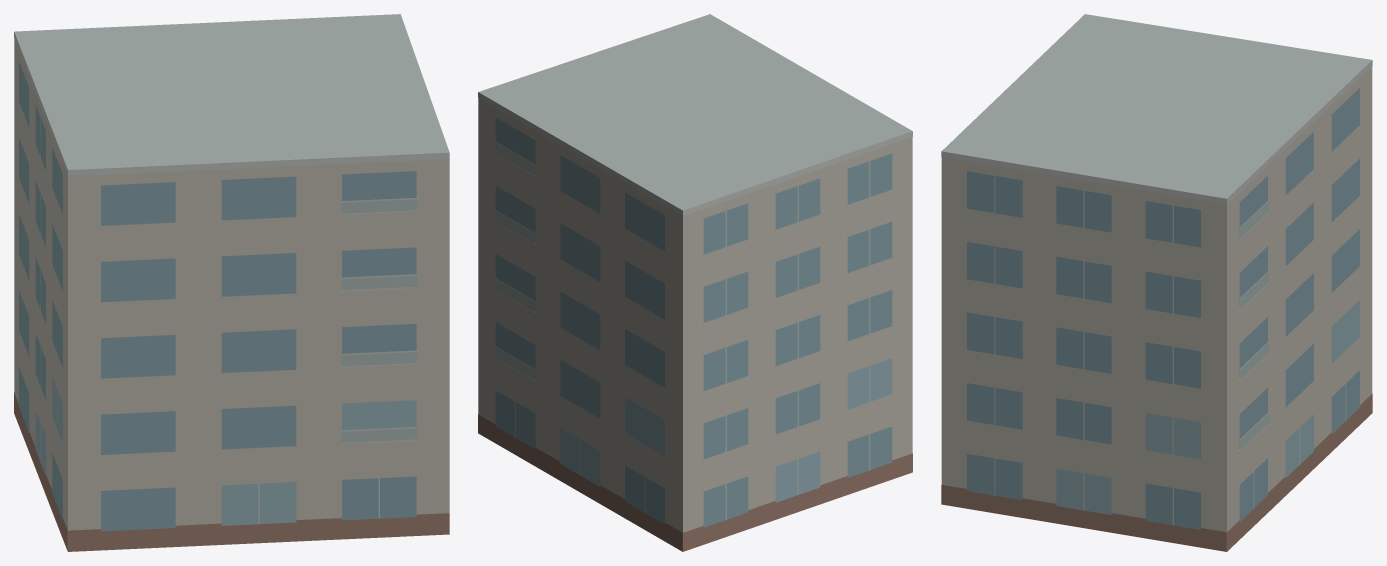
The model's file is survey-upis-32679595.glb.
The picture shows the model from 3 angles, left to right: view 1: azimuth 30°, elevation 25°; view 2: azimuth 150°, elevation 25°; view 3: azimuth 270°, elevation 25°; orthographic projection. The views are drawn at different scales.
Parts seen in each view (by area): view 1: survey-upis-32679595.tmp; view 2: survey-upis-32679595.tmp; view 3: survey-upis-32679595.tmp.
Part boxes in pixels (x1=…): survey-upis-32679595.tmp: x1=14, y1=14, x2=449, y2=551; survey-upis-32679595.tmp: x1=478, y1=14, x2=912, y2=551; survey-upis-32679595.tmp: x1=941, y1=14, x2=1372, y2=551.
Bounding box in the file's own units: 16.28 × 14.5 × 16.05.
